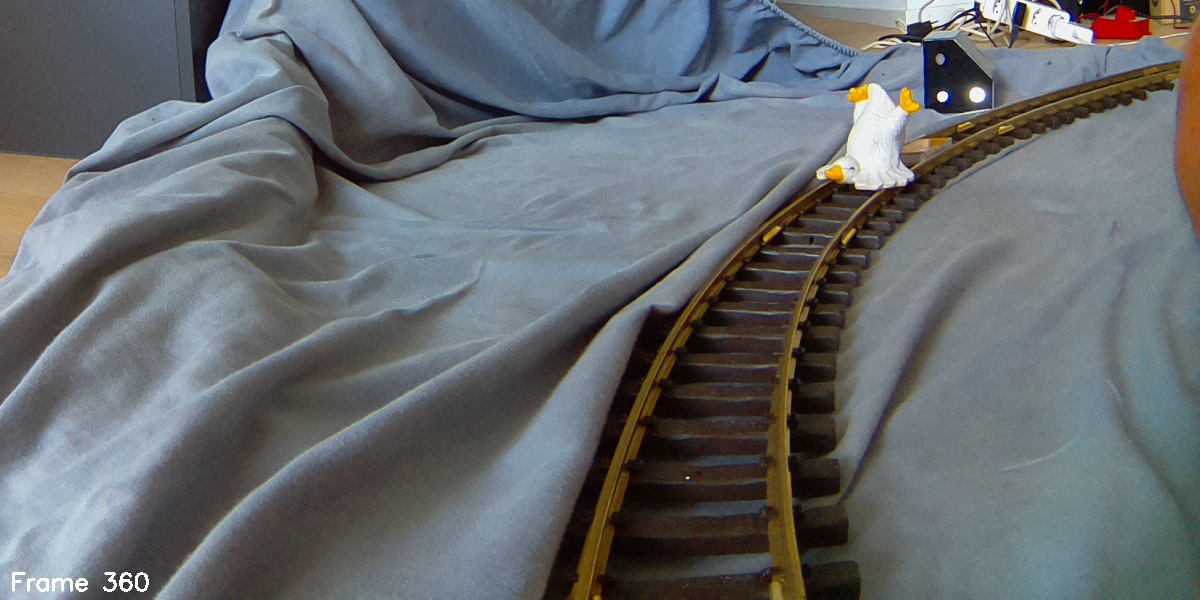Ente: (818, 82, 922, 190)
Halt: (922, 31, 993, 112)
